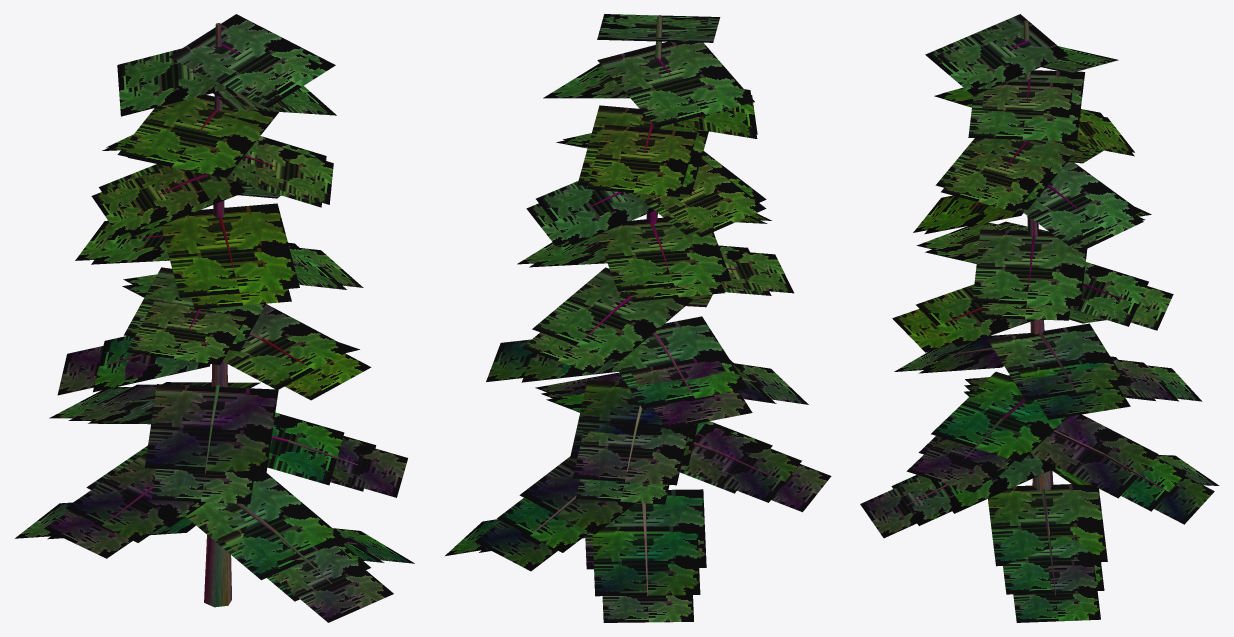
Rendered from tree-spruce-lo.glb.
The picture shows the model from 3 angles, left to right: view 1: azimuth 30°, elevation 25°; view 2: azimuth 150°, elevation 25°; view 3: azimuth 270°, elevation 25°; orthographic projection. The views are drawn at different scales.
Parts seen in each view (by area): view 1: lo-leaf, lo-bark; view 2: lo-leaf, lo-bark; view 3: lo-leaf, lo-bark.
Boxes of the visible parts, bbox=[...] form: lo-leaf: bbox=[15, 14, 414, 622]; lo-bark: bbox=[105, 23, 357, 607]; lo-leaf: bbox=[445, 14, 831, 622]; lo-bark: bbox=[533, 15, 777, 595]; lo-leaf: bbox=[860, 14, 1219, 622]; lo-bark: bbox=[906, 20, 1165, 595].
Size of the model in its own units: 8.43 by 13.33 by 8.33.
2 materials, 2 textured.
